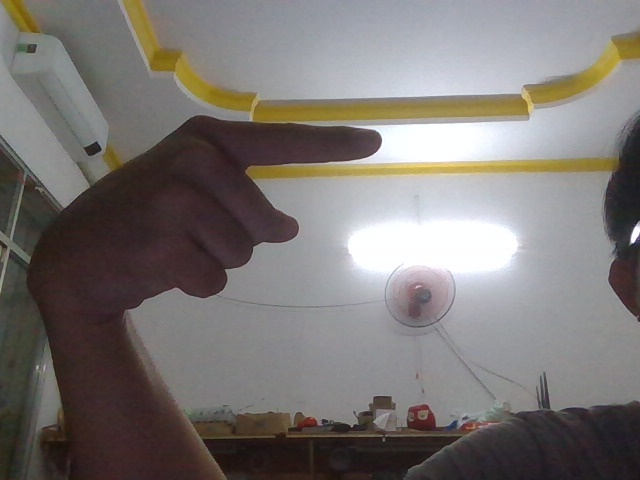turn_left: (28, 107, 385, 316)
